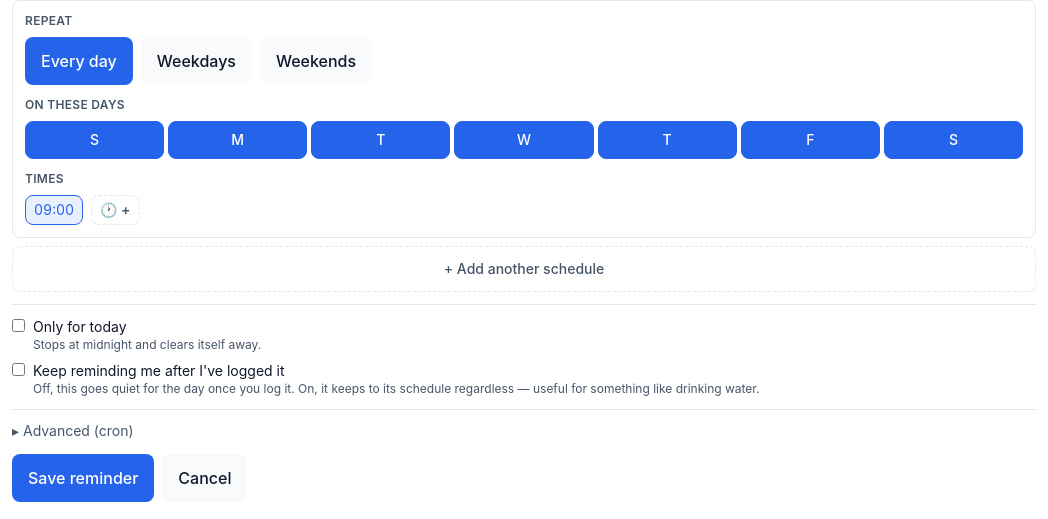
it: ReminderScheduleForm › adding a time › shows the new time as a chip alongside the existing ones
Replace the text in the time field with id "reminder-add-time-0" with "20:30" at (115, 210), box 91,195 -> 140,225
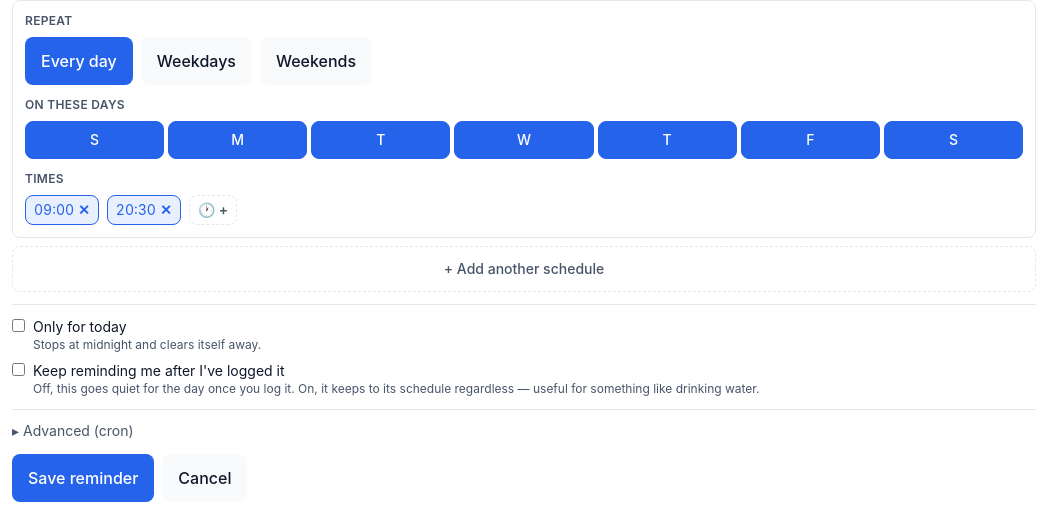
Expected: the text "09:00" is shown, 34,201 -> 74,218
Result: the text "20:30" is shown at 116,201 -> 156,218
